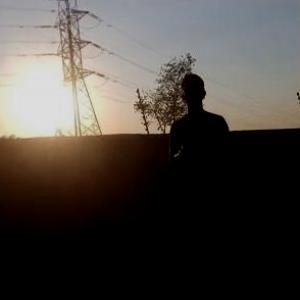follow: (166, 66, 242, 299)
